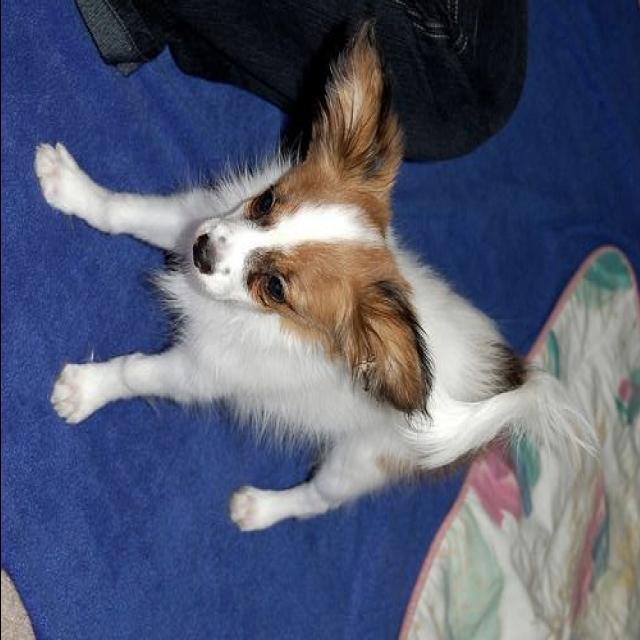papillon: (32, 19, 600, 534)
